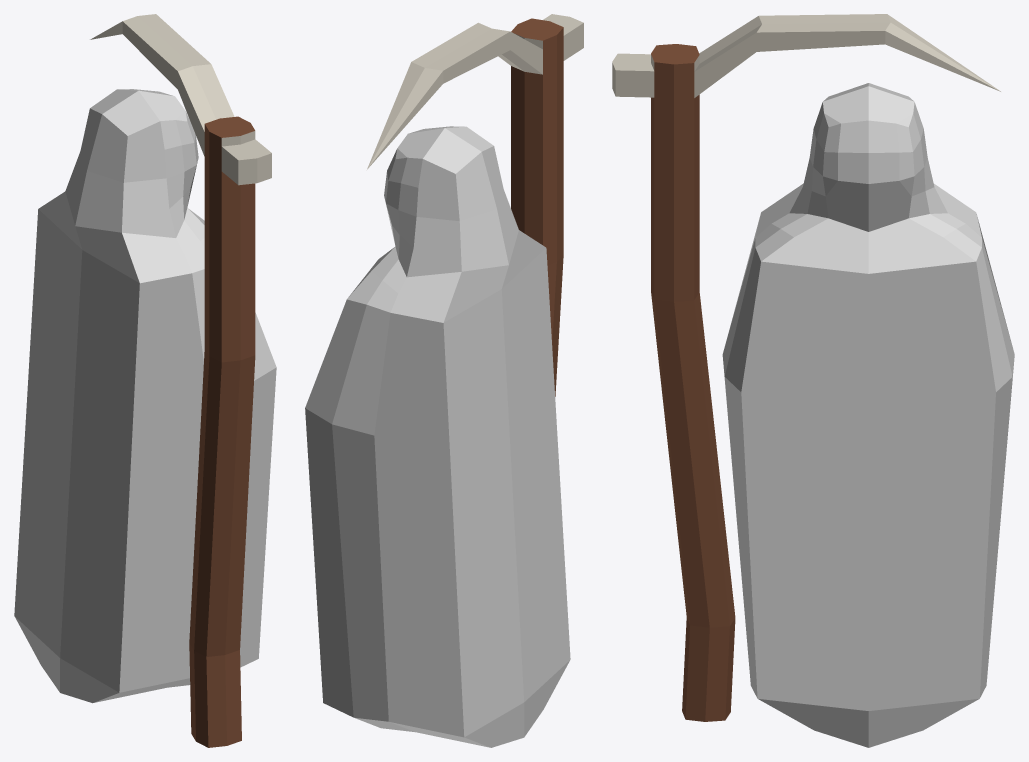
Rendered from reap.fbx.
3 renders of one model, left to right at view 1: azimuth 30°, elevation 25°; view 2: azimuth 150°, elevation 25°; view 3: azimuth 270°, elevation 25°, orthographic. The views are drawn at different scales.
Visible parts, largest first — view 1: Cube, Plane; view 2: Cube, Plane; view 3: Cube, Plane.
Part boxes in pixels (box(x1,y1,x2,y2)): Cube: box(14, 89, 276, 703); Plane: box(90, 14, 271, 747); Cube: box(305, 126, 570, 747); Plane: box(367, 14, 583, 396); Cube: box(722, 83, 1014, 747); Plane: box(612, 14, 1000, 721).
Size of the model in its own units: 588 by 1117 by 295.
